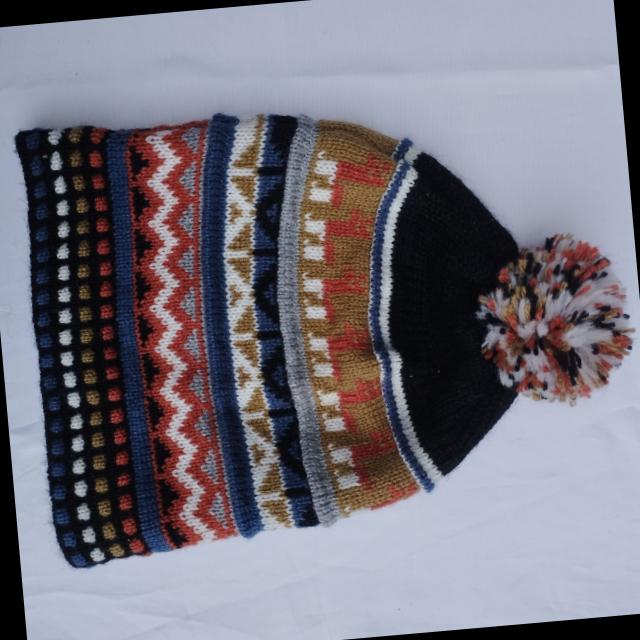Gorro: (12, 74, 640, 570)
